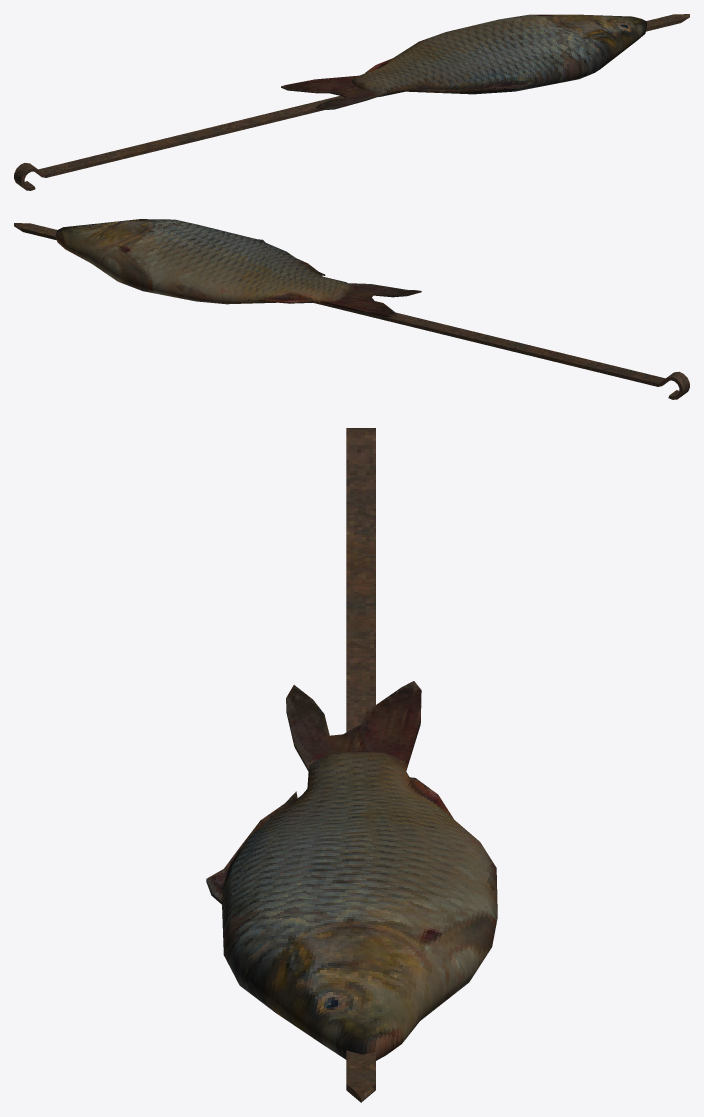
Rendered from melee_fish_skewer_mx_1.glb.
The picture shows the model from 3 angles, top to bottom: view 1: azimuth 30°, elevation 25°; view 2: azimuth 150°, elevation 25°; view 3: azimuth 270°, elevation 25°; orthographic projection. The views are drawn at different scales.
Visible parts, largest first — view 1: melee_fish_skewer_mx_1; view 2: melee_fish_skewer_mx_1; view 3: melee_fish_skewer_mx_1.
Boxes of the visible parts, <box> form: melee_fish_skewer_mx_1: <box>14,14,689,190</box>; melee_fish_skewer_mx_1: <box>14,219,689,399</box>; melee_fish_skewer_mx_1: <box>206,428,497,1102</box>.
Size of the model in its own units: 1.06 by 0.0646 by 0.1985.
Materials: 2 (2 with a texture image).
